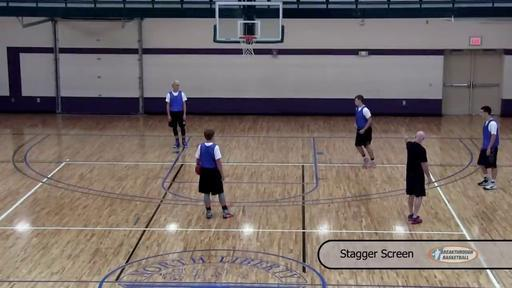ball: (196, 164, 200, 175)
human: (195, 129, 234, 219), (404, 130, 432, 224), (477, 104, 499, 190), (354, 94, 376, 167), (166, 79, 188, 148)
rim: (239, 37, 257, 55)
